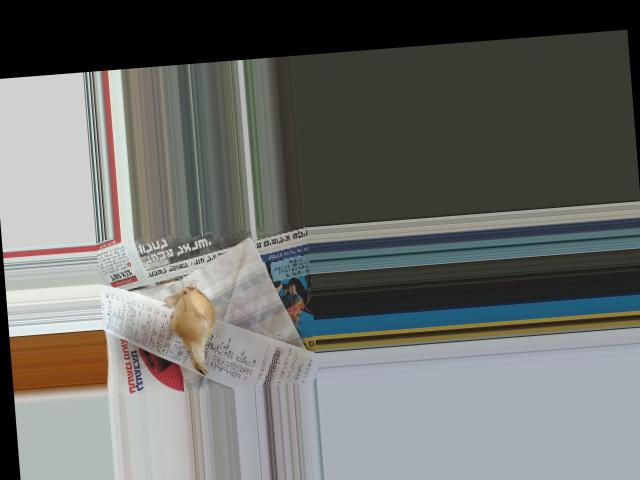onion: (174, 292, 218, 353)
